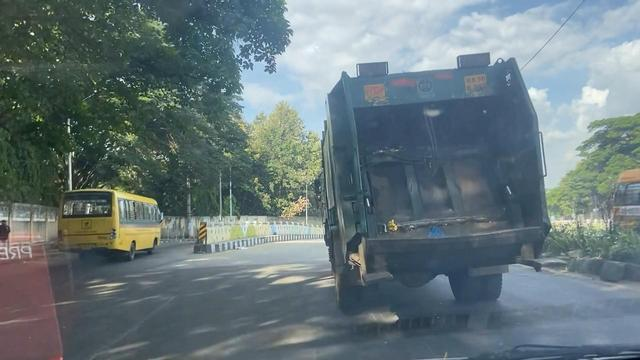HMV: (325, 59, 544, 306), (53, 188, 157, 260)
